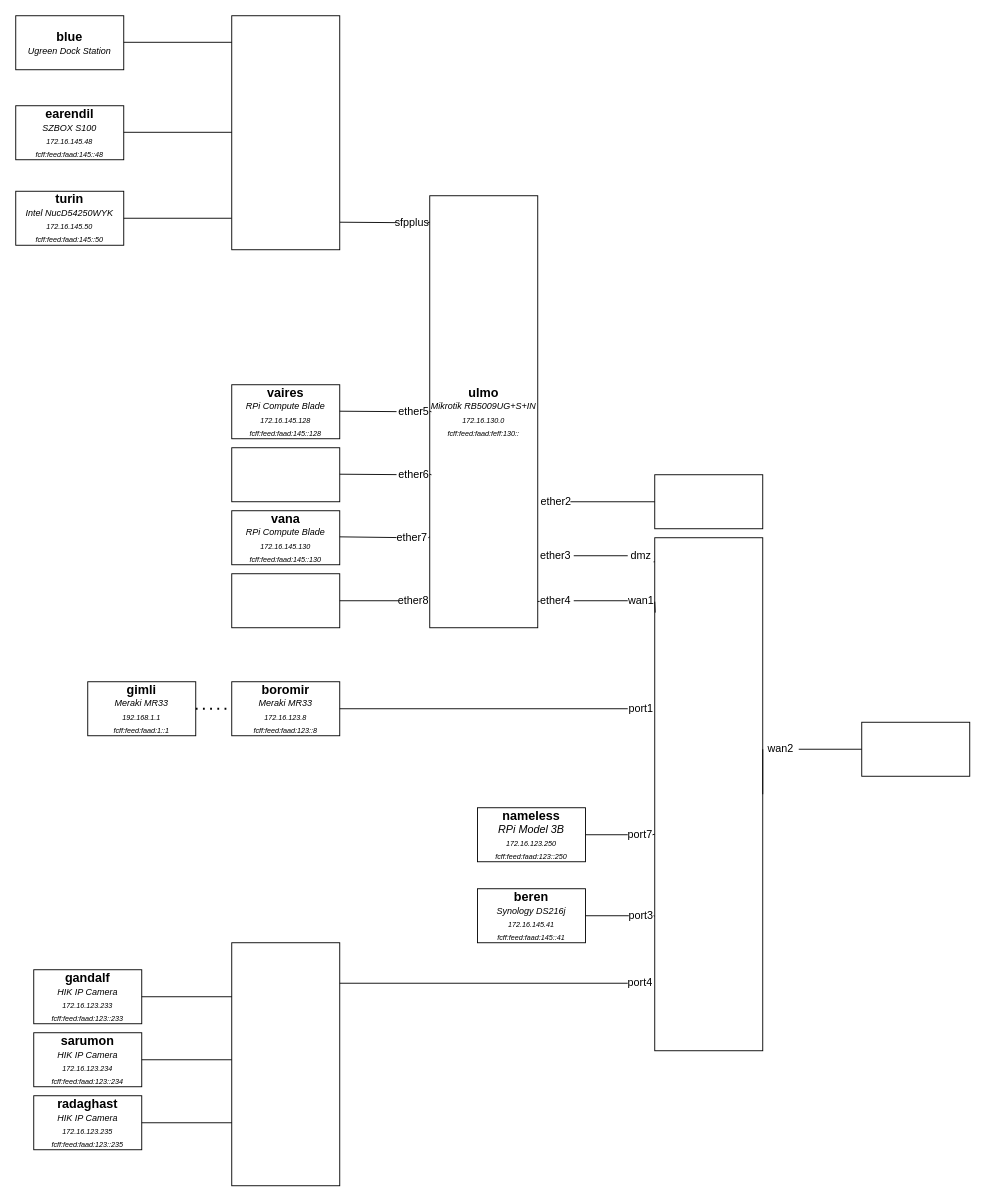
Some shapes in this 986 by 1202 pixel diagram are drawn without their labels. Each missing label, with the centre of its shape:
"balrog netgear n/a n/a" belongs at pixel 285 1064.
"eru Fortinet Fortigate 61E 172.16.129.0 fcff:feed:faad:feff:129::" belongs at pixel 708 794.
"galadriel Mikrotik Netmetal ac2 172.16.123.9 fcff:feed:faad:123::9" belongs at pixel 708 501.
"mandos RPi Compute Blade 172.16.145.129 fcff:feed:faad:145::129" belongs at pixel 285 474.
"orome RPi Compute Blade 172.16.145.131 fcff:feed:faad:145::131" belongs at pixel 285 600.
"tulkas qotom-NAS 172.16.145.48 fcff:feed:faad:145::48" belongs at pixel 285 132.
"WWEST ONT" belongs at pixel 915 748.
